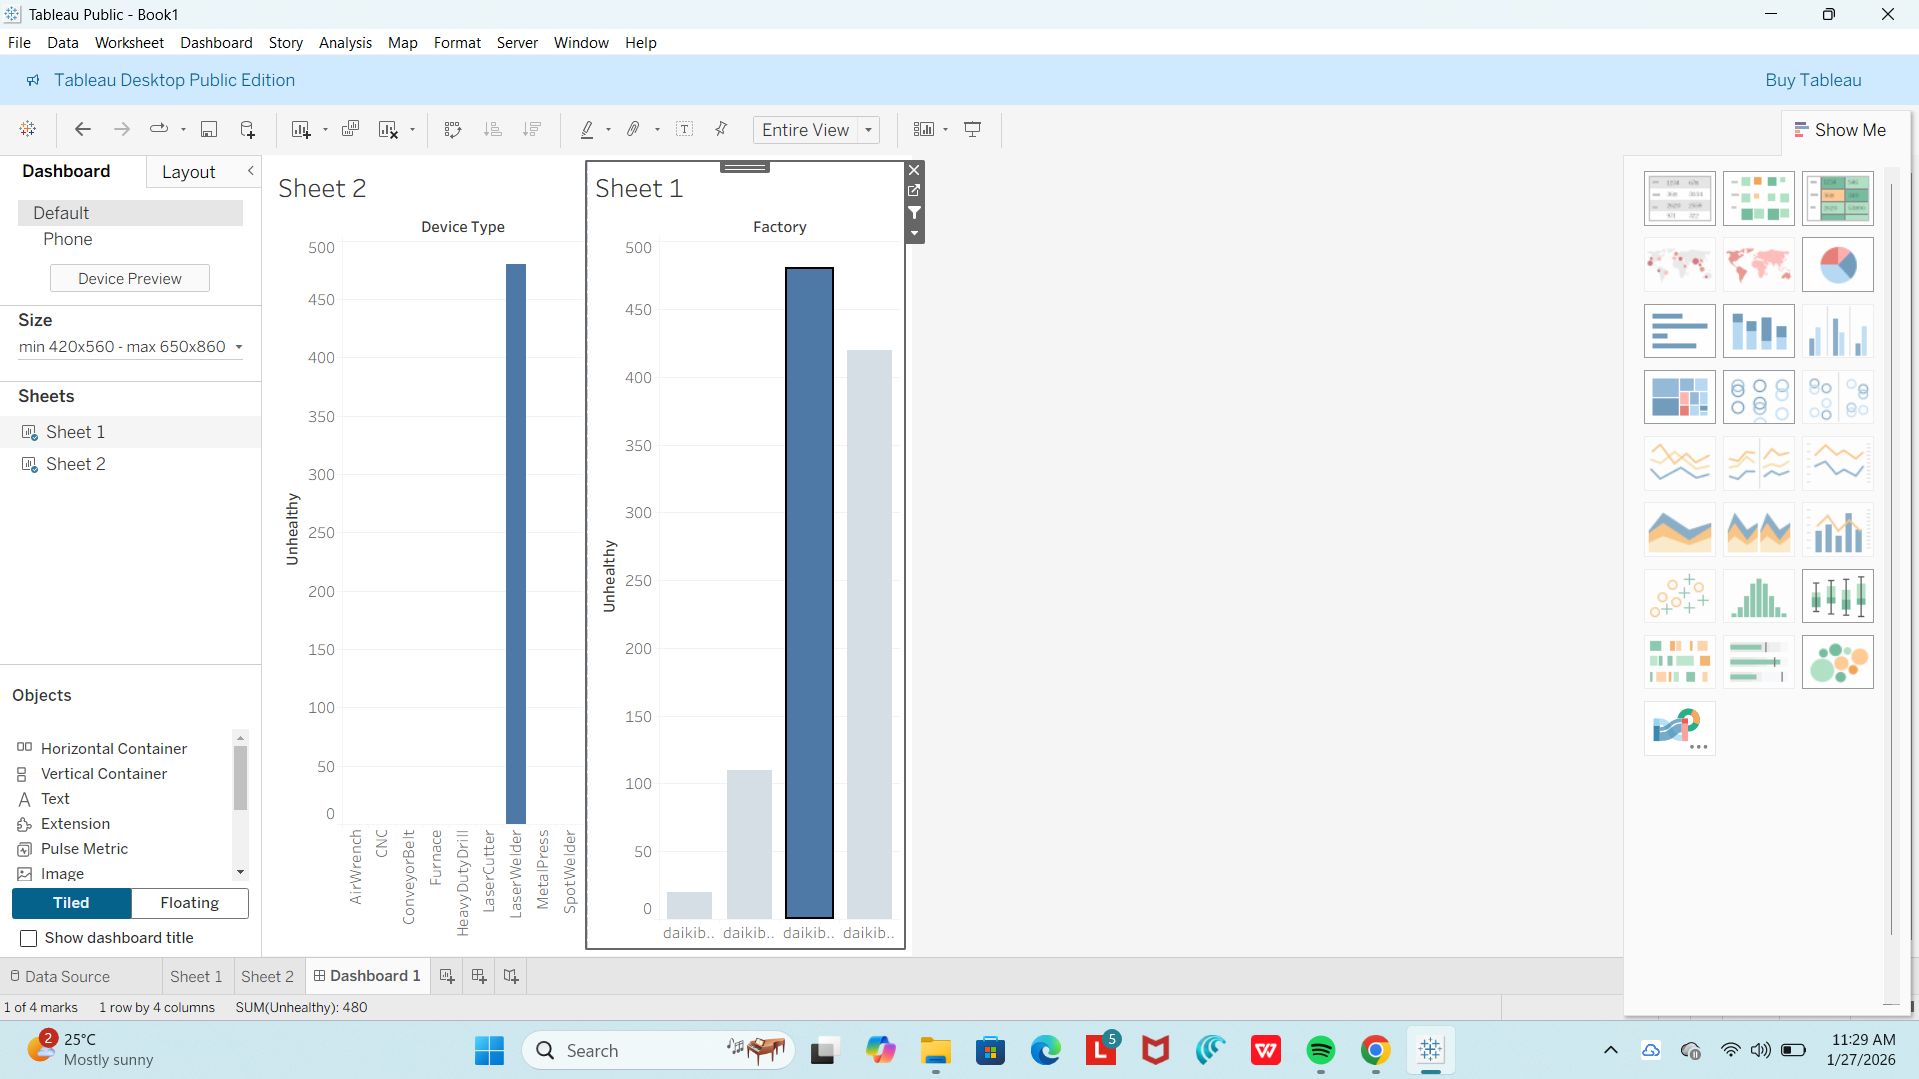

Layout of this report page (visuals, bound fields, positions):
{"tool":"tableau","page":{"name":"Dashboard 3","canvas":[650,860],"ordinal":2},"visuals":[{"type":"worksheet","title":"Sheet 2","mark":"Automatic","rows":["Calculation_1490971289014272"],"cols":["deviceType"],"box":[8,8.6,317,842.8]},{"type":"worksheet","title":"Sheet 1","mark":"Automatic","rows":["Calculation_1490971289014272"],"cols":["factory"],"box":[325,8.6,317,842.8]}]}

Visuals, with their boxes on the page's 650x860 design canvas (x1, y1, x2, y2). These are canvas units, not pixel positions in the 1919x1079 screenshot, which may show the page scaled, cropped or inside an application window:
"Sheet 2" worksheet: 8/9/325/851
"Sheet 1" worksheet: 325/9/642/851
